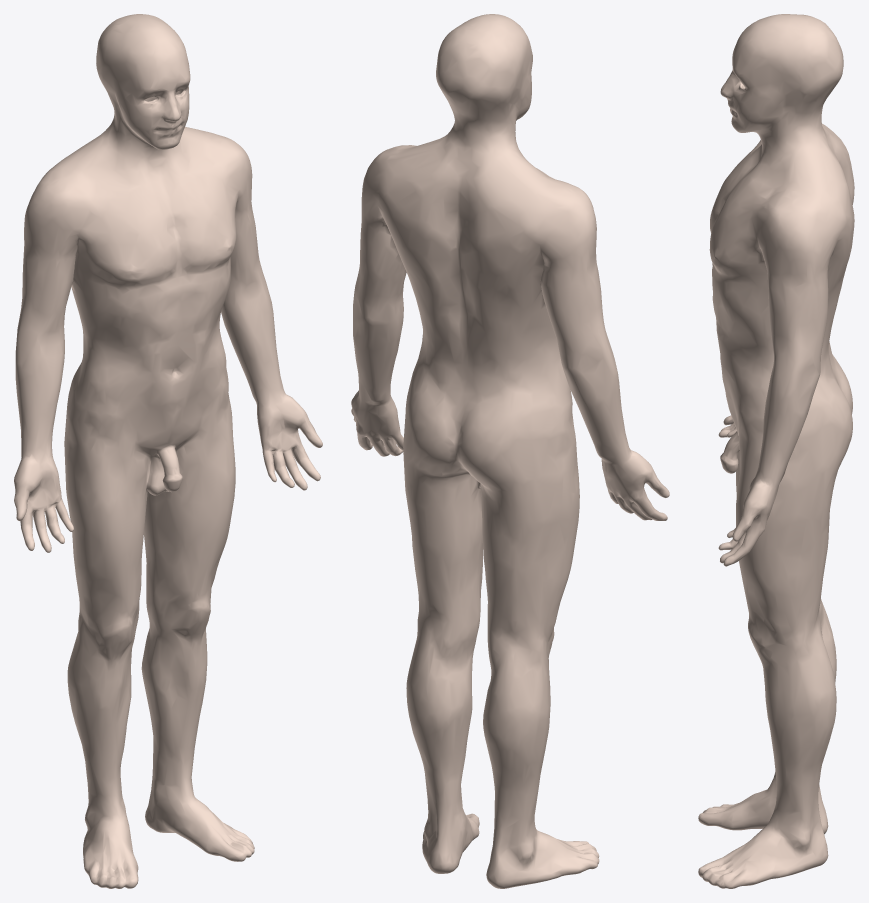
The model's file is peau-corps.lo.glb.
The picture shows the model from 3 angles, left to right: view 1: azimuth 30°, elevation 25°; view 2: azimuth 150°, elevation 25°; view 3: azimuth 270°, elevation 25°; orthographic projection. The views are drawn at different scales.
Parts seen in each view (by area): view 1: FJ2810; view 2: FJ2810; view 3: FJ2810.
Part boxes in pixels (<box>): FJ2810: <box>14,14,322,888</box>; FJ2810: <box>351,14,669,888</box>; FJ2810: <box>698,14,854,888</box>.
Bounding box in the file's own units: 0.6666 × 1.72 × 0.2919.
